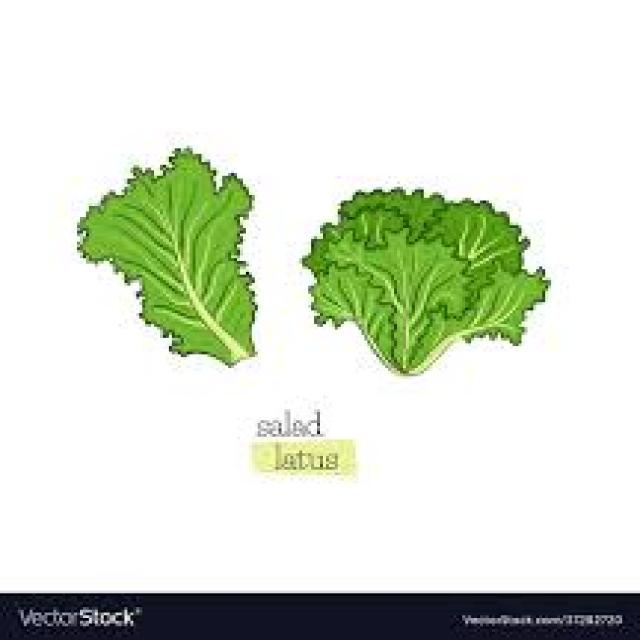lettuce: (299, 184, 551, 376), (74, 143, 258, 368)
